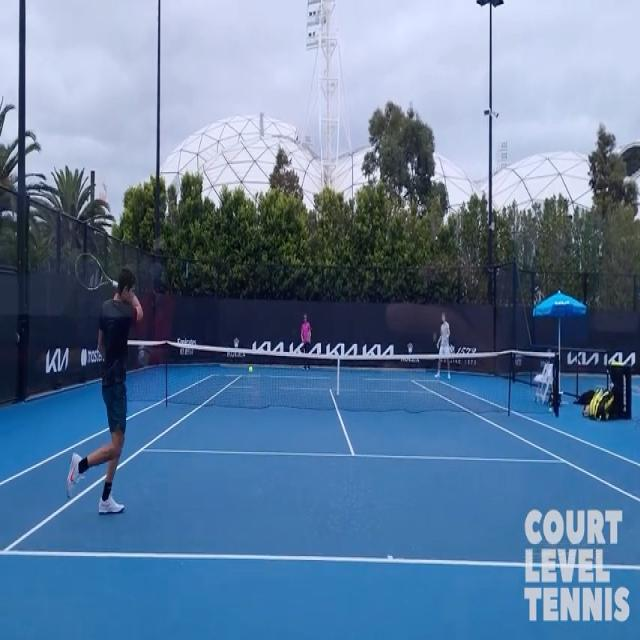forehand-finish: (63, 254, 159, 511)
